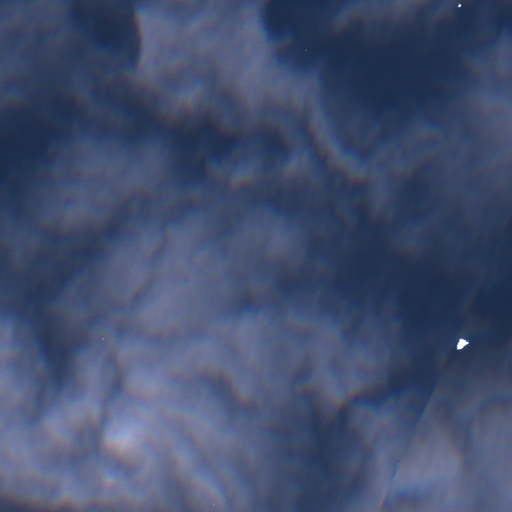Iceberg: (456, 338, 468, 349), (457, 3, 461, 7), (305, 49, 306, 50), (102, 338, 103, 339)
